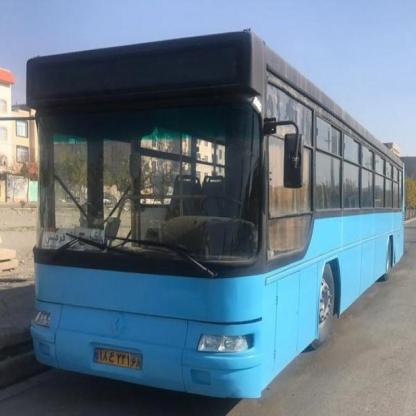Bus: (24, 32, 416, 408)
